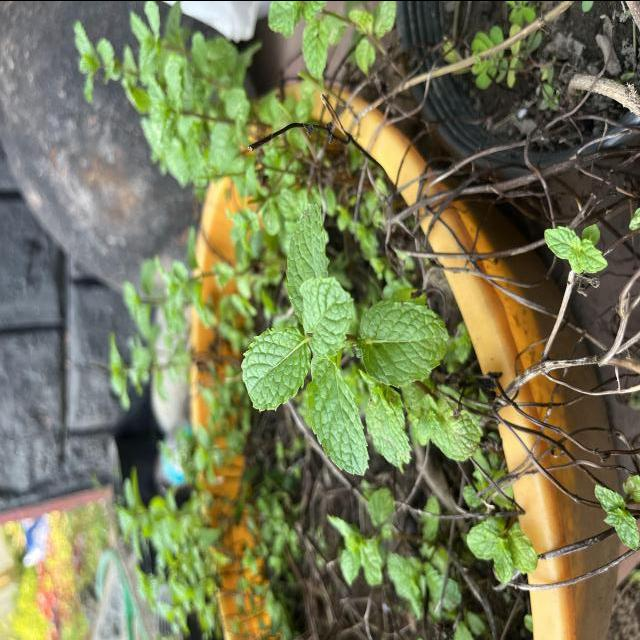Mentha spicata: (359, 296, 450, 388), (306, 354, 370, 476), (240, 324, 312, 412), (300, 273, 356, 358)
